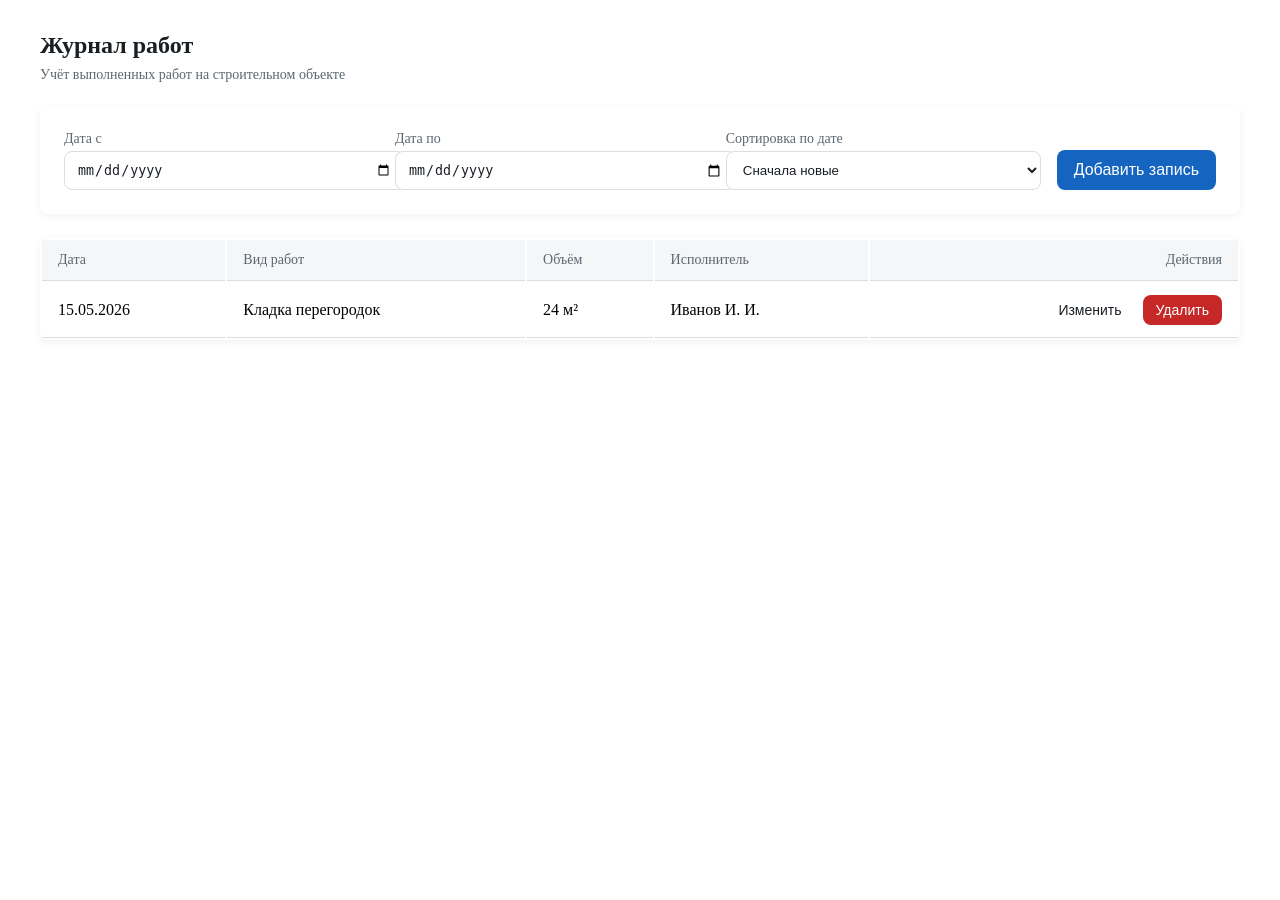
WorkLogPage › closes modal after successful create
The image size is (1280, 900).
Click the button "Добавить запись" at coordinates (1136, 170), box [1057, 150, 1216, 190]
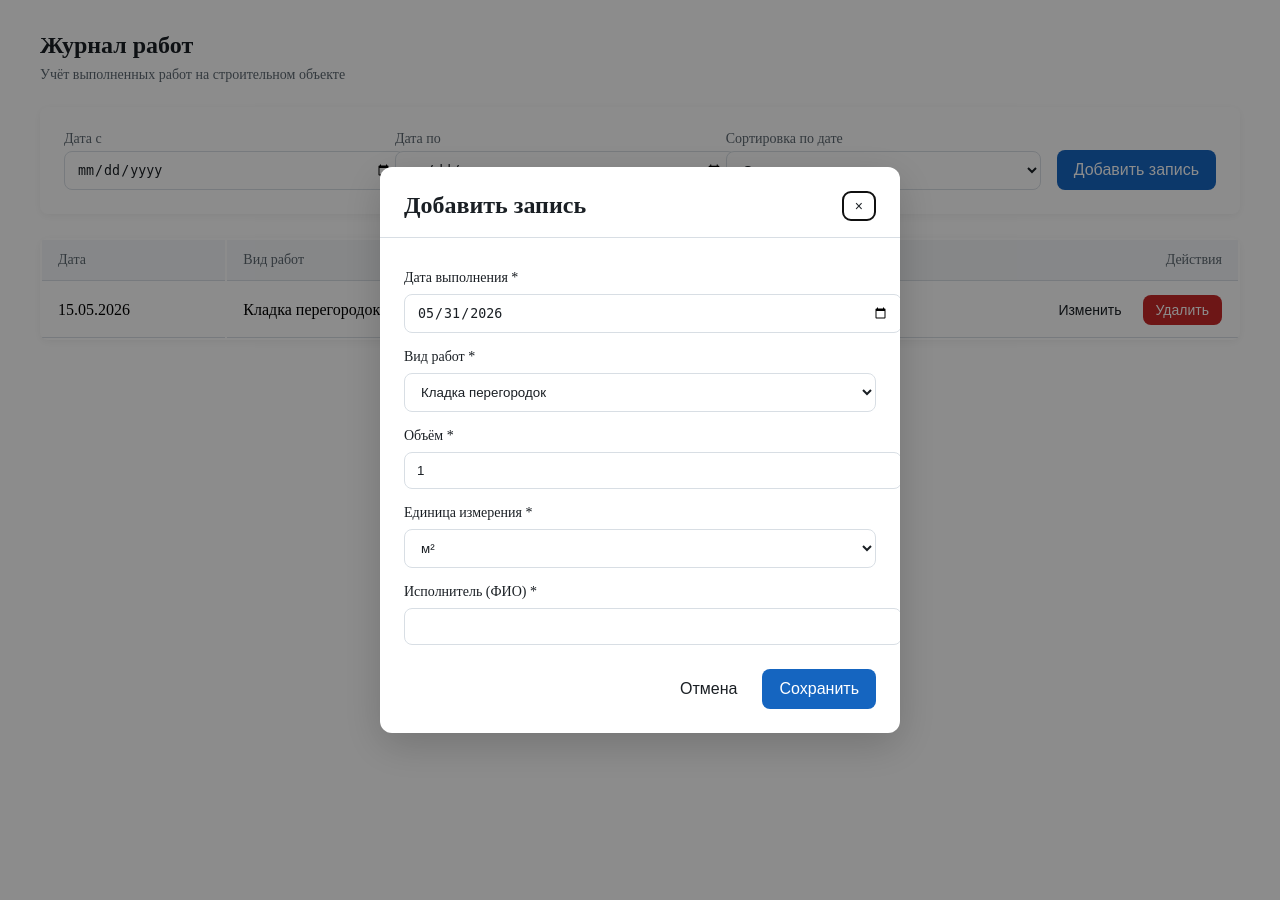
Type "Тестов Т.Т." into the field labelled "Исполнитель (ФИО) *" at coordinates (653, 627), box [404, 608, 902, 645]
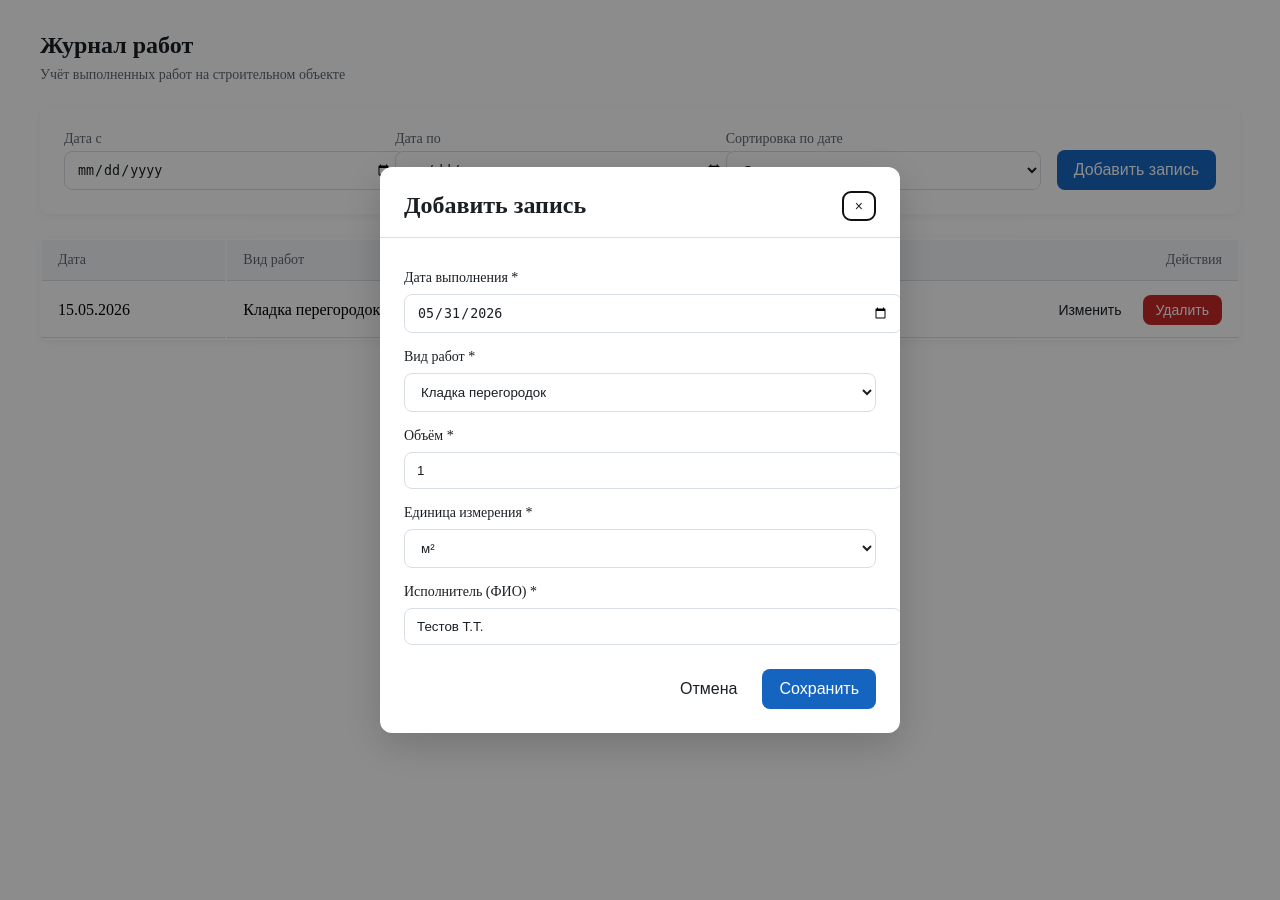
Submit the form, box [404, 270, 876, 709]
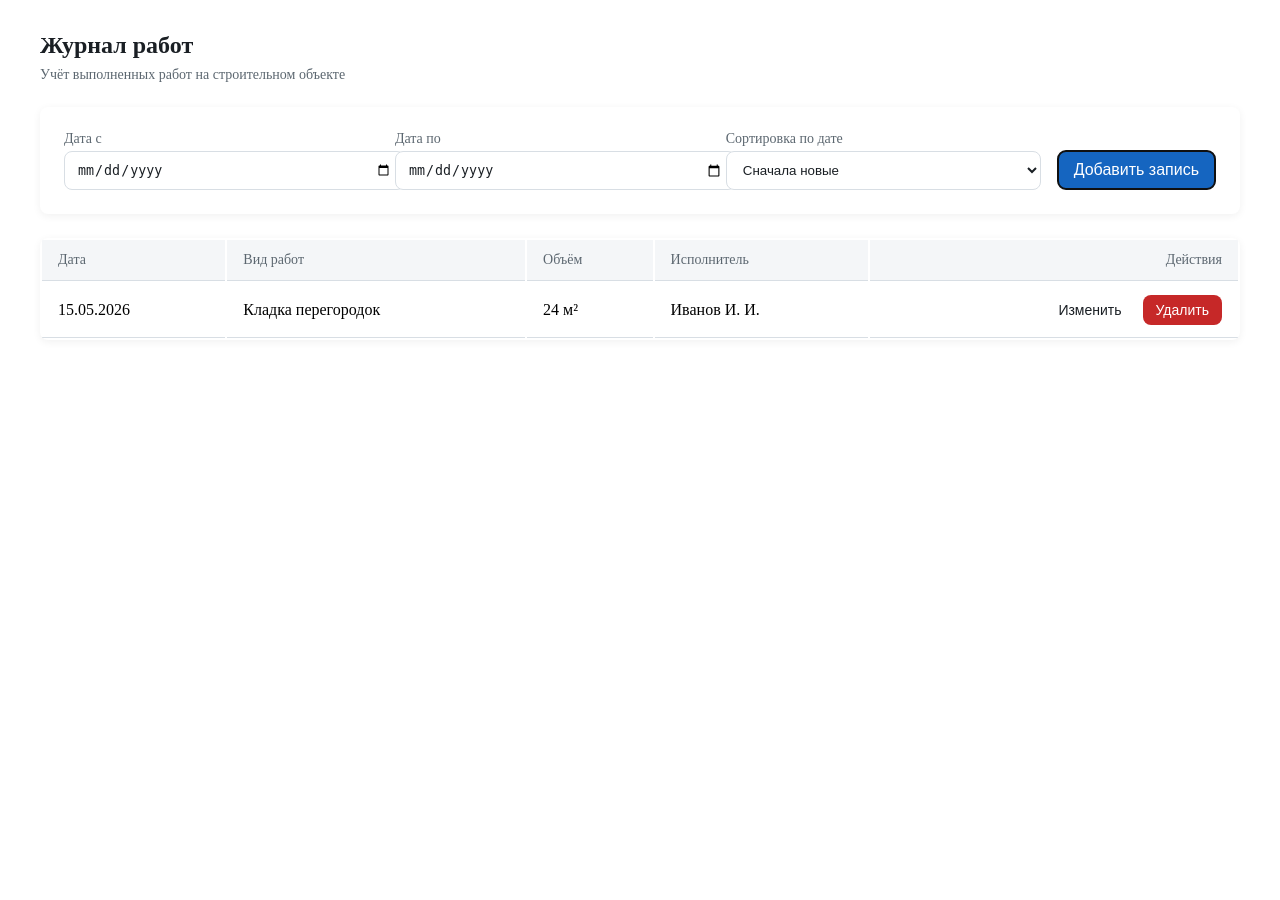
Now the dialog is gone
